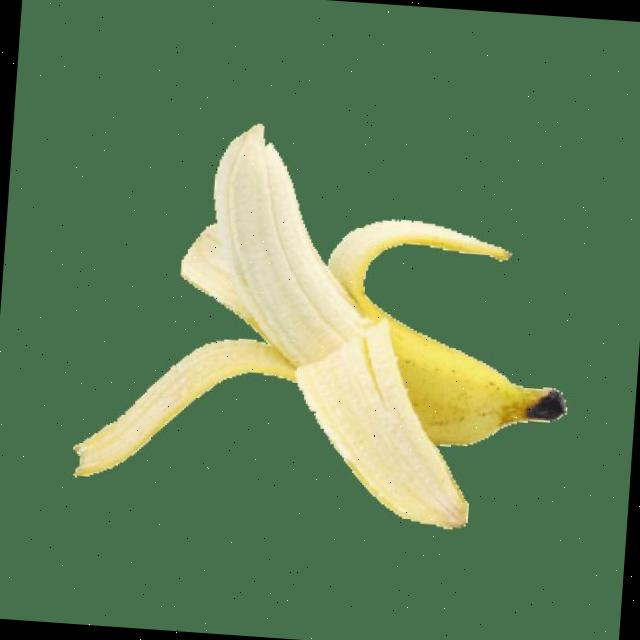banana-peel: (68, 110, 585, 537)
